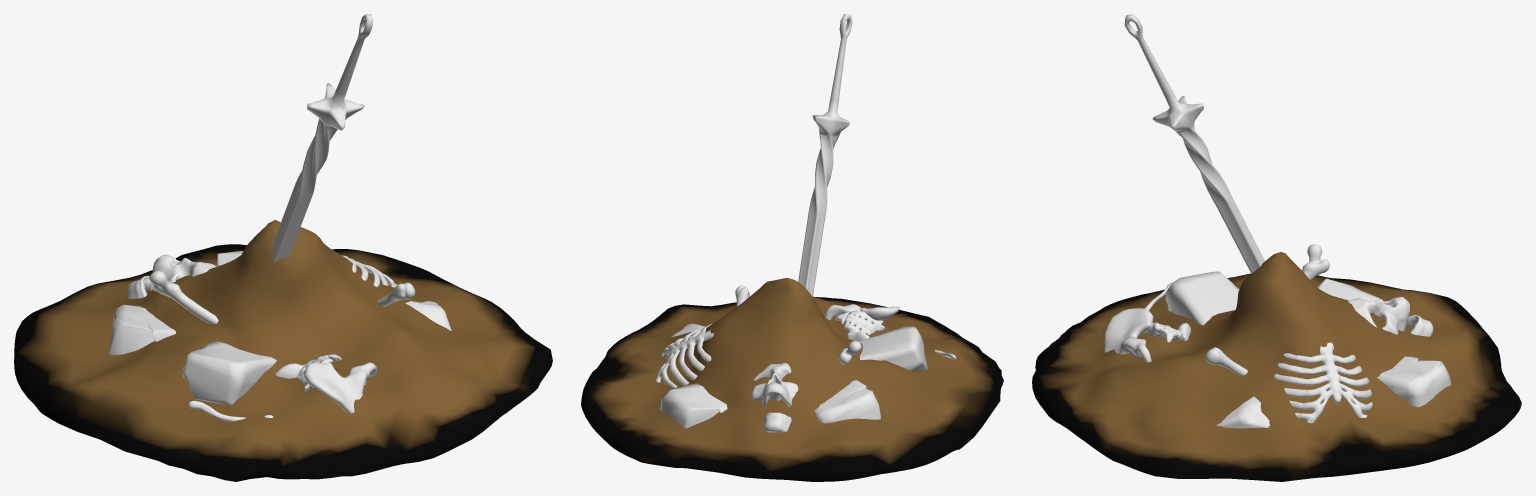
The model's file is Bonfire.fbx.
3 renders of one model, left to right at view 1: azimuth 30°, elevation 25°; view 2: azimuth 150°, elevation 25°; view 3: azimuth 270°, elevation 25°, orthographic. The views are drawn at different scales.
Visible parts, largest first — view 1: Ash_Esqueleto.001, Bones-Bricks_Esqueleto.023, Sword-Fire_Plane.001; view 2: Ash_Esqueleto.001, Bones-Bricks_Esqueleto.023, Sword-Fire_Plane.001; view 3: Ash_Esqueleto.001, Bones-Bricks_Esqueleto.023, Sword-Fire_Plane.001.
Part boxes in pixels (box(x1,y1,x2,y2)): Ash_Esqueleto.001: box(14, 220, 552, 481); Bones-Bricks_Esqueleto.023: box(109, 251, 451, 421); Sword-Fire_Plane.001: box(272, 14, 373, 262); Ash_Esqueleto.001: box(581, 278, 1003, 481); Bones-Bricks_Esqueleto.023: box(655, 285, 956, 432); Sword-Fire_Plane.001: box(798, 14, 852, 296); Ash_Esqueleto.001: box(1032, 252, 1521, 481); Bones-Bricks_Esqueleto.023: box(1104, 244, 1450, 428); Sword-Fire_Plane.001: box(1124, 14, 1264, 273).
Bounding box in the file's own units: 373 × 329 × 386.
